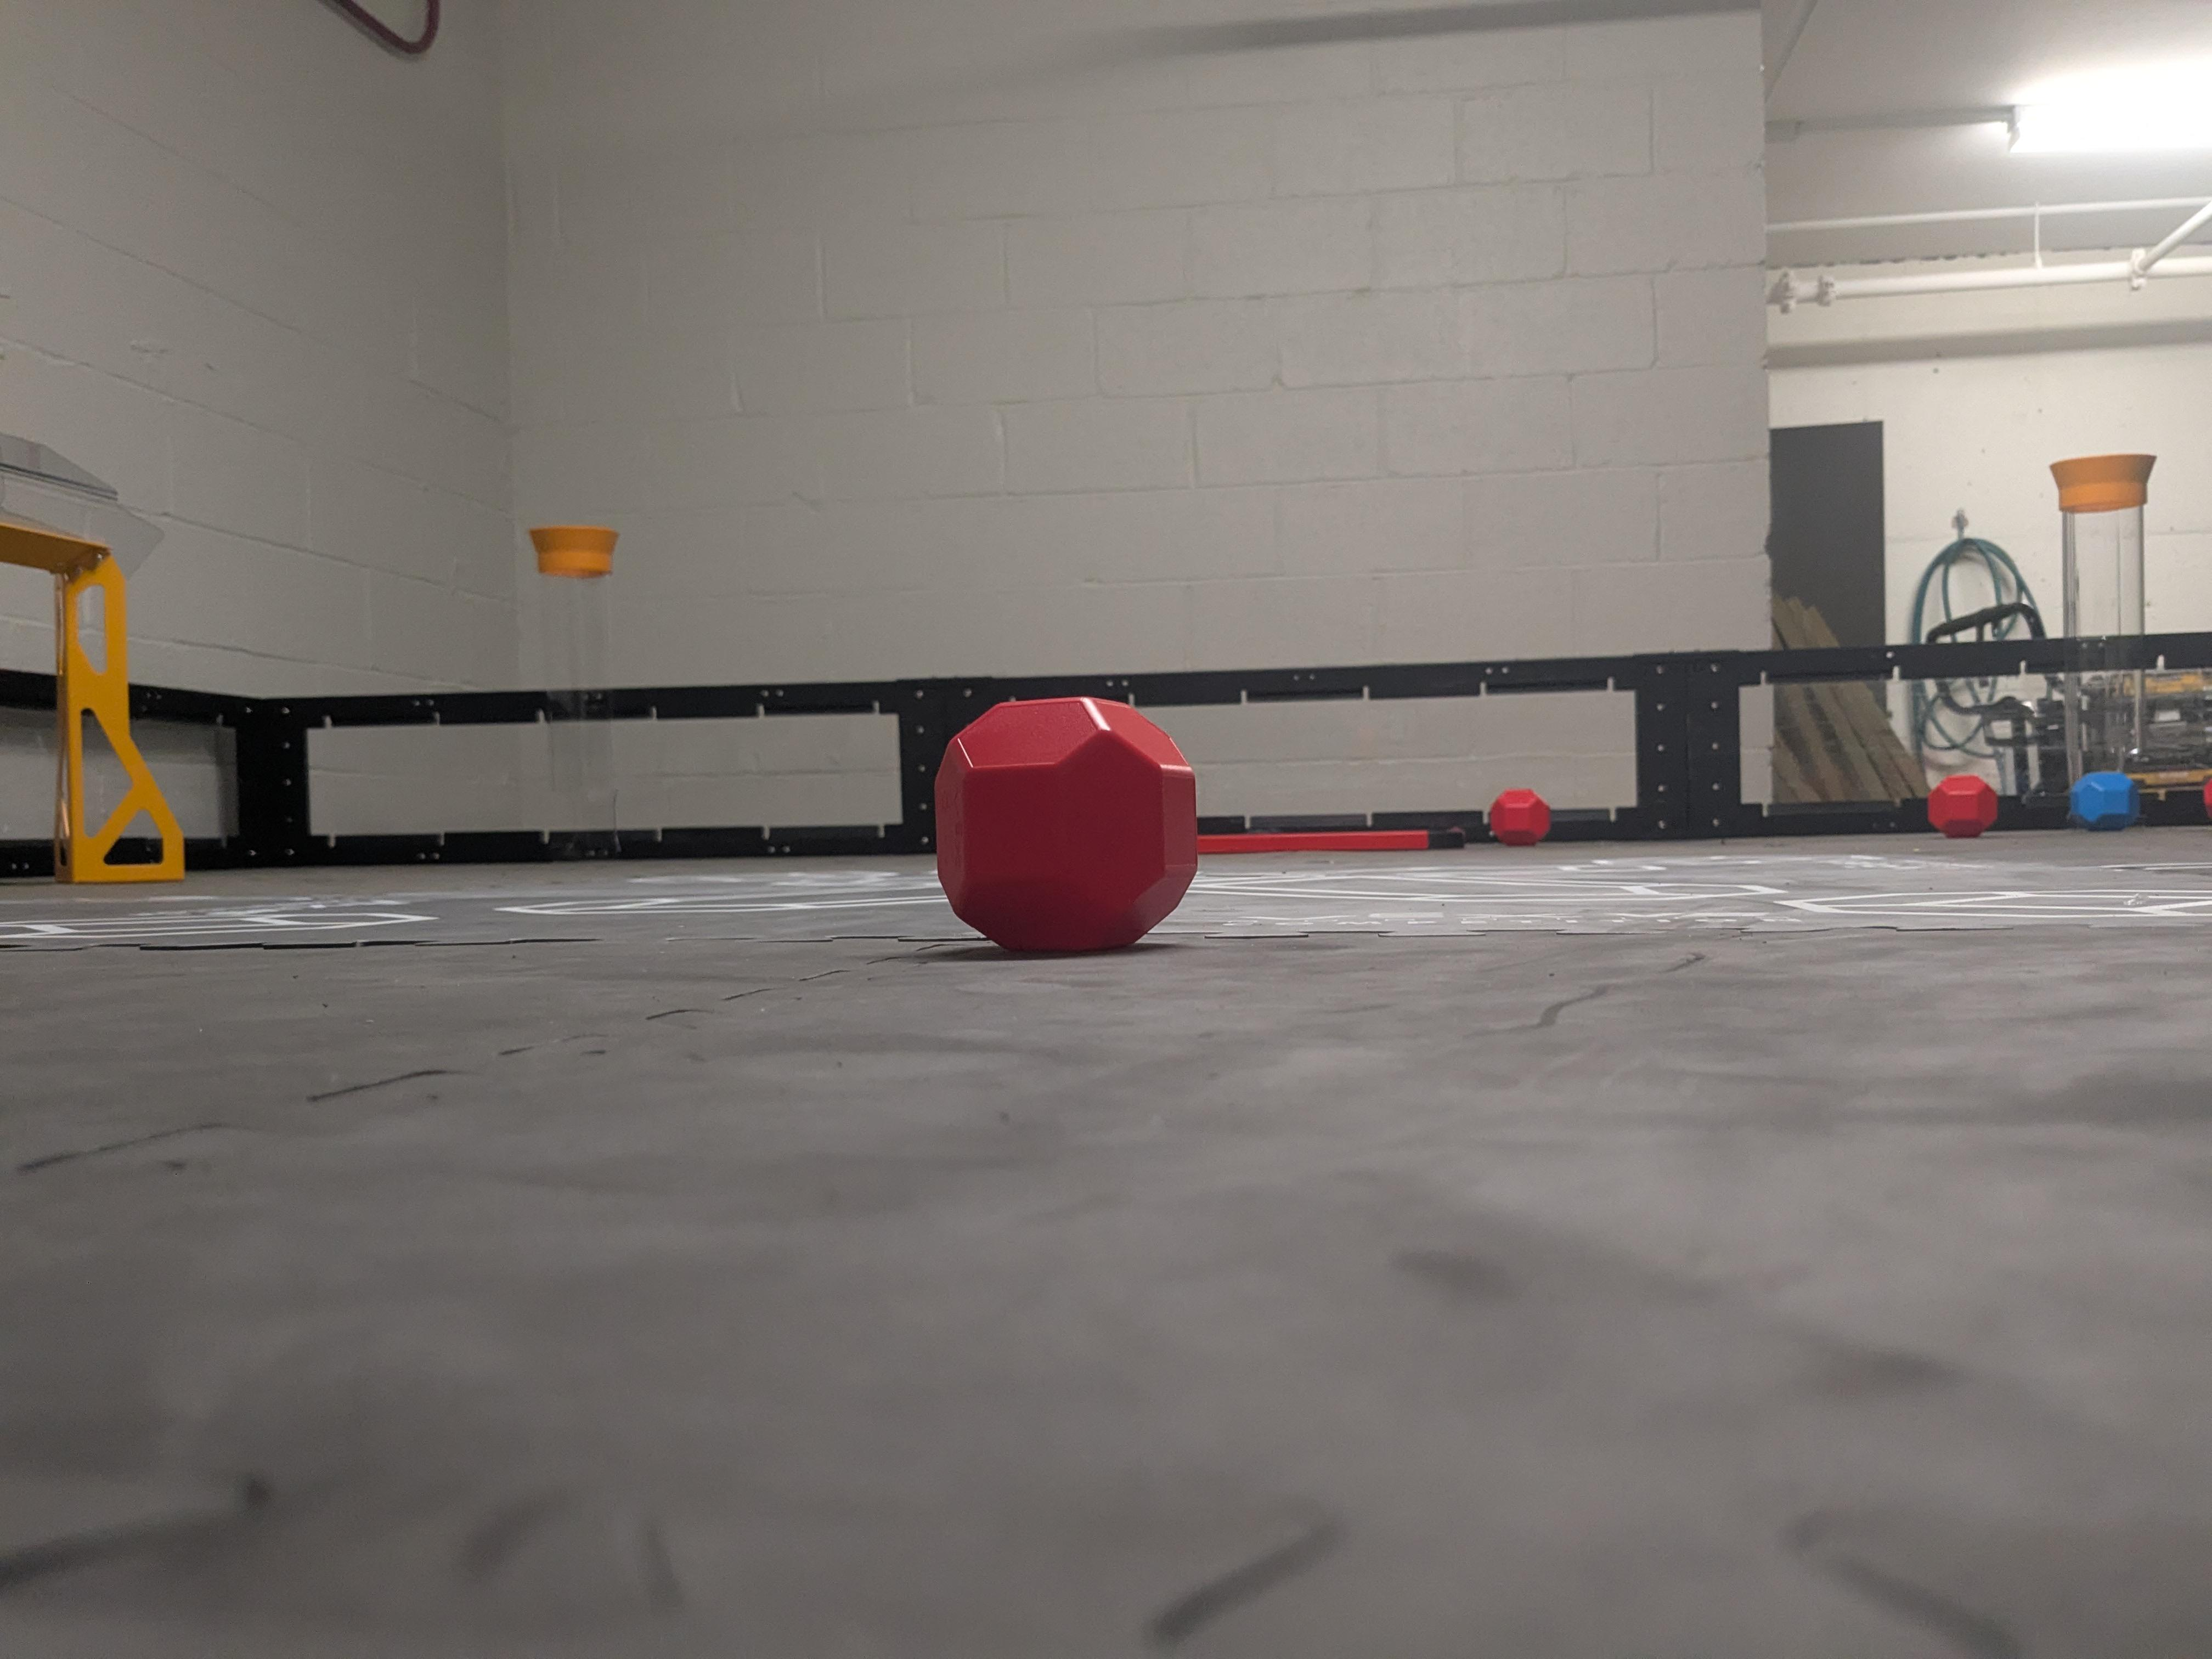Vex-Pieces-RED: (939, 694, 1198, 951), (1928, 774, 1998, 838), (1487, 789, 1550, 845)
